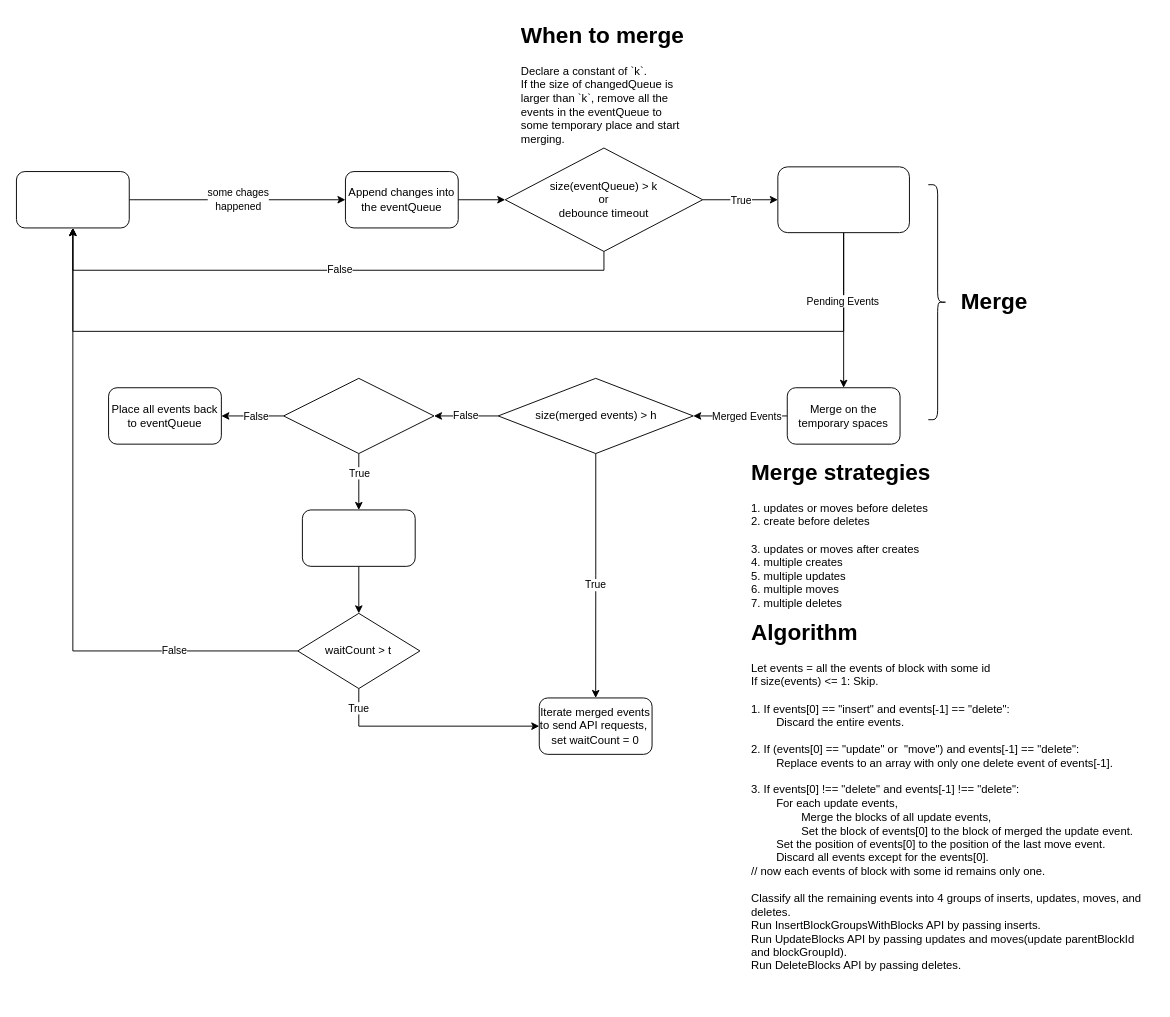
This 1170x1017 diagram has some shape labels left out. The centre of each missing label's shape, as x and y in pixels:
"Increment waitCount" belongs at pixel 358 537.
"Listen and serve block events" belongs at pixel 72 199.
"Remove all events in eventQueue and place them in some temporary place" belongs at pixel 843 199.
"size(eventQueue) == 0" belongs at pixel 358 415.
